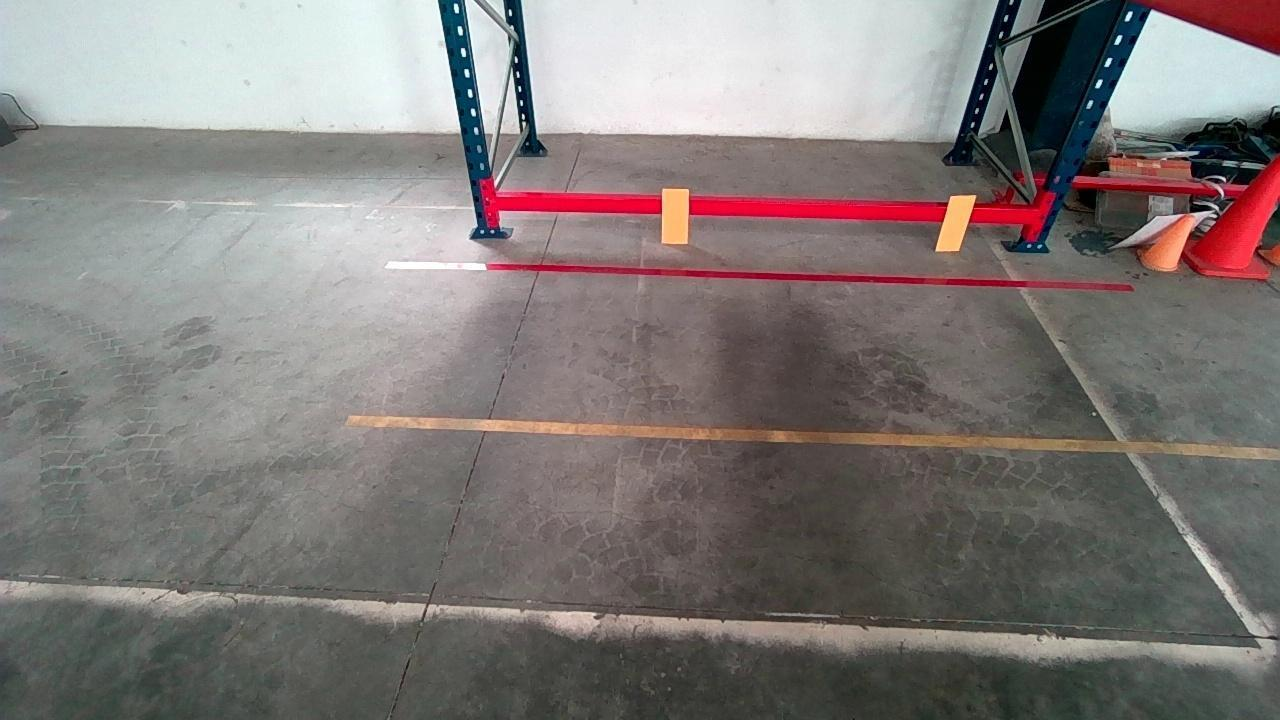h_rack: (495, 194, 1031, 224)
orange_strip: (936, 194, 976, 251), (662, 187, 690, 242)
red_line: (379, 259, 1131, 290)
yellow_line: (349, 413, 1280, 460)
